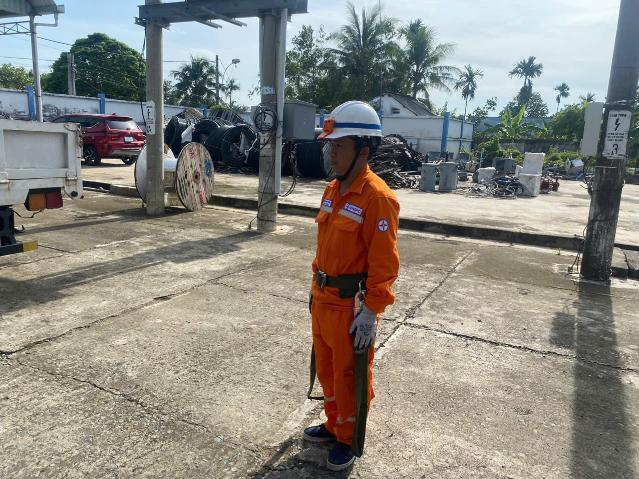gloves: (349, 302, 403, 355), (298, 288, 328, 315)
harness: (305, 262, 378, 299)
helmet: (318, 98, 386, 149)
shoes: (306, 440, 377, 471), (293, 408, 345, 445)
